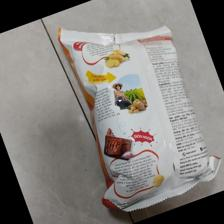Lays: (54, 24, 224, 217)
